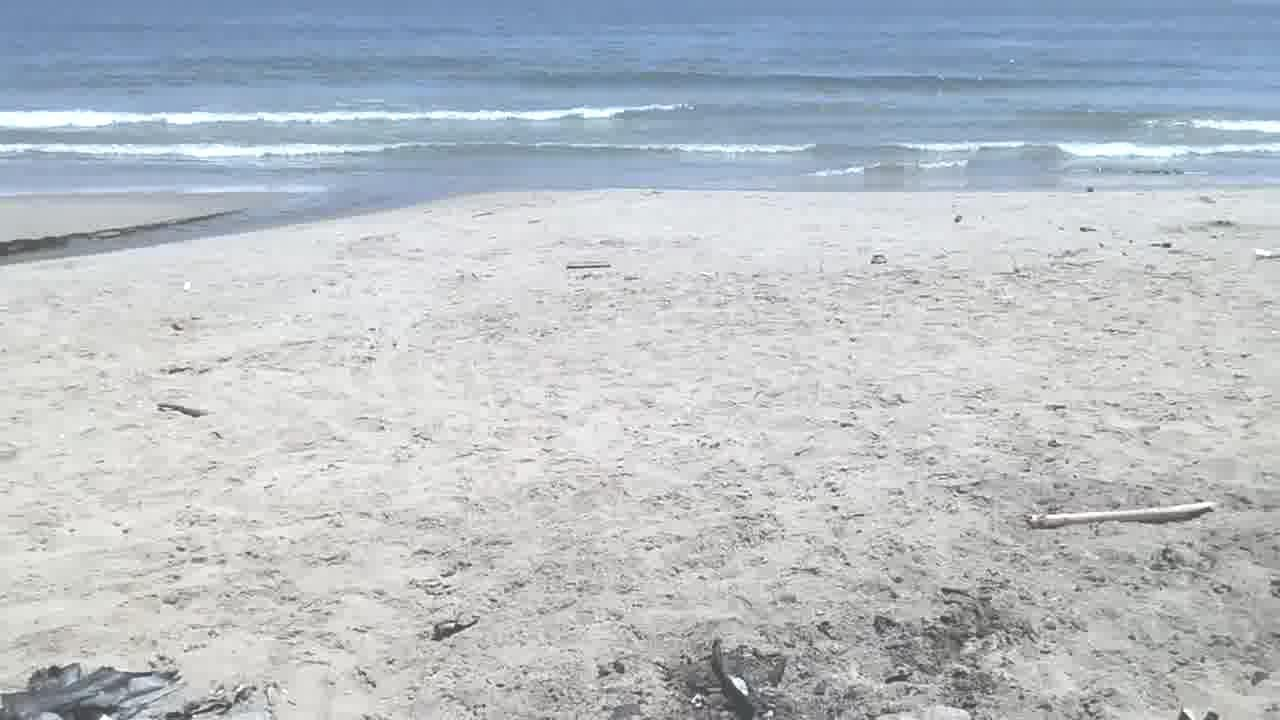large collection of objects: (665, 635, 768, 719), (432, 618, 482, 638)
obj: (0, 663, 190, 719), (1023, 496, 1221, 536), (157, 401, 204, 420), (157, 364, 216, 375), (565, 261, 613, 271), (1251, 246, 1279, 260), (170, 322, 187, 336), (869, 252, 888, 264), (184, 281, 192, 292), (954, 215, 962, 224)
sand/background: (0, 0, 1279, 272)
